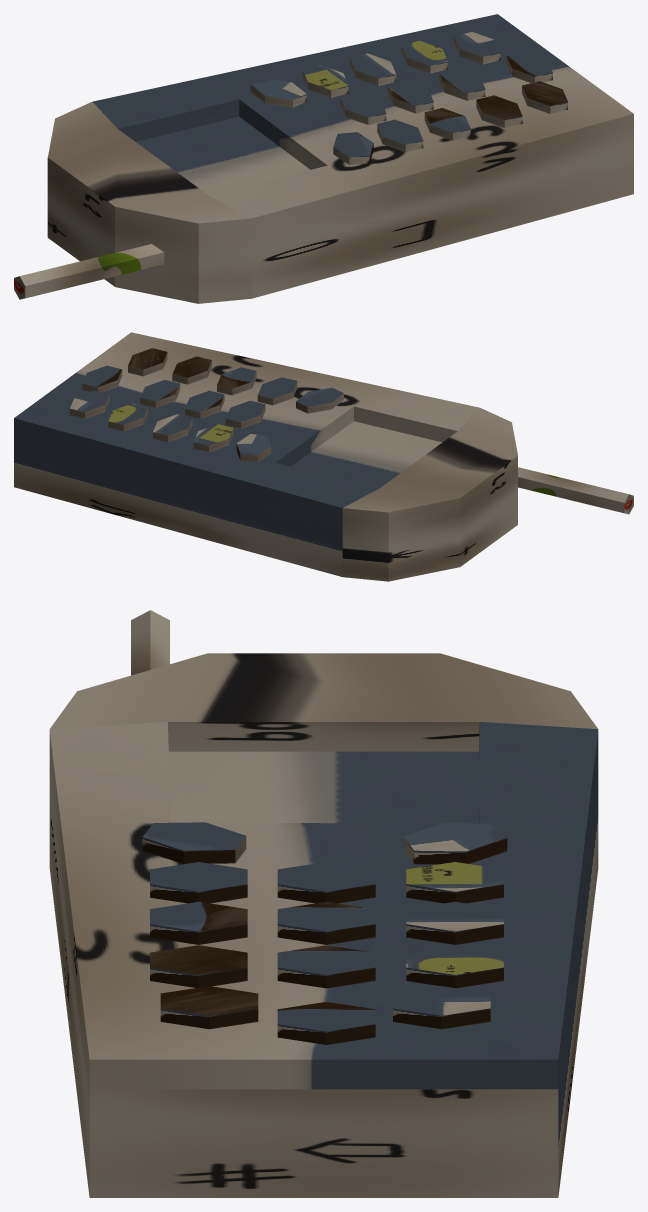
Rendered from mobieltje_burner_v4.fbx.
3 renders of one model, top to bottom at view 1: azimuth 30°, elevation 25°; view 2: azimuth 150°, elevation 25°; view 3: azimuth 270°, elevation 25°, orthographic. The views are drawn at different scales.
Visible parts, largest first — view 1: base_en_antenne, Knopjes1; view 2: base_en_antenne, Knopjes1; view 3: base_en_antenne, Knopjes1.
Part boxes in pixels (bbox=[...]): base_en_antenne: bbox=[14, 14, 633, 303]; Knopjes1: bbox=[250, 32, 567, 164]; base_en_antenne: bbox=[14, 332, 633, 581]; Knopjes1: bbox=[69, 348, 343, 462]; base_en_antenne: bbox=[49, 610, 598, 1197]; Knopjes1: bbox=[142, 822, 507, 1044].
Bounding box in the file's own units: 11.02 × 1.56 × 5.1.
